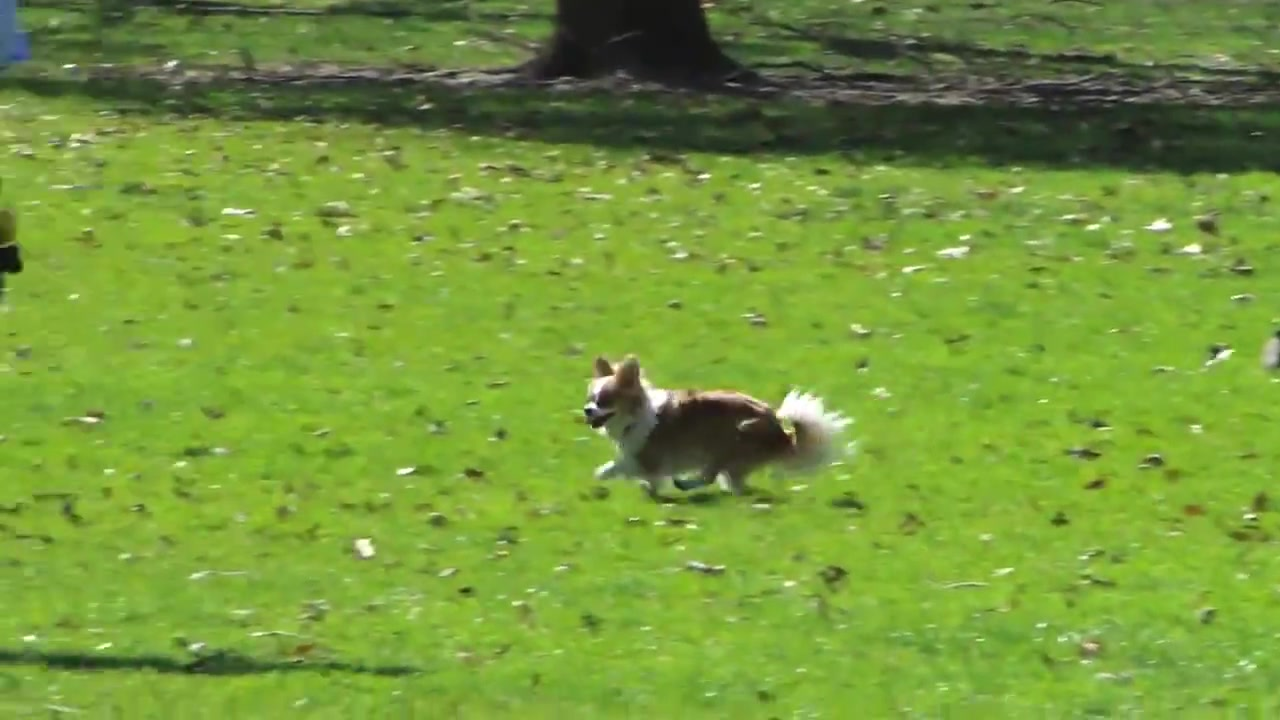dog: (584, 352, 854, 508)
